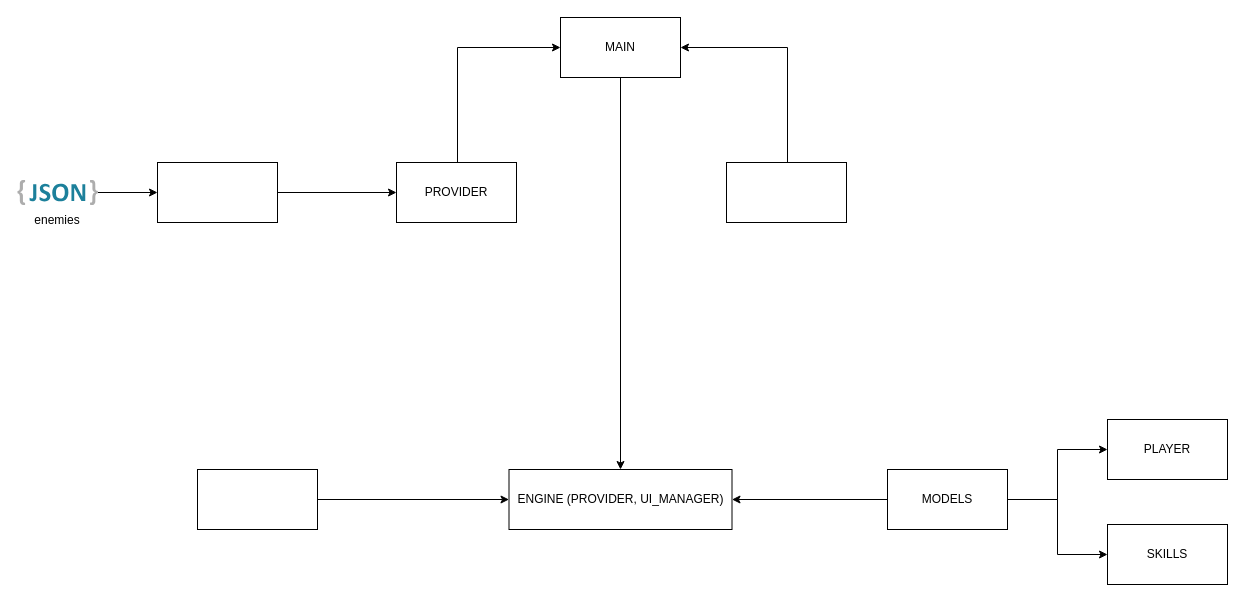
Some shapes in this 1245 by 602 pixel diagram are drawn without their labels. Each missing label, with the box of its shape:
COMBAT_MANAGER: (196, 468, 318, 530)
Data: (156, 162, 278, 222)
UI_MANAGER: (726, 162, 846, 222)
